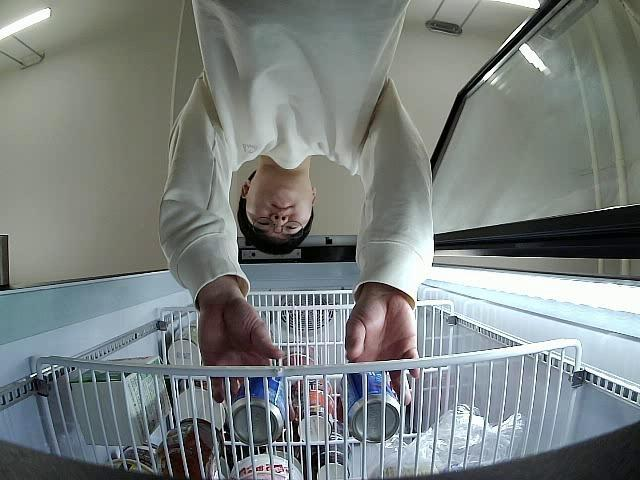15_letsbe: (340, 366, 404, 445), (228, 374, 290, 446)
